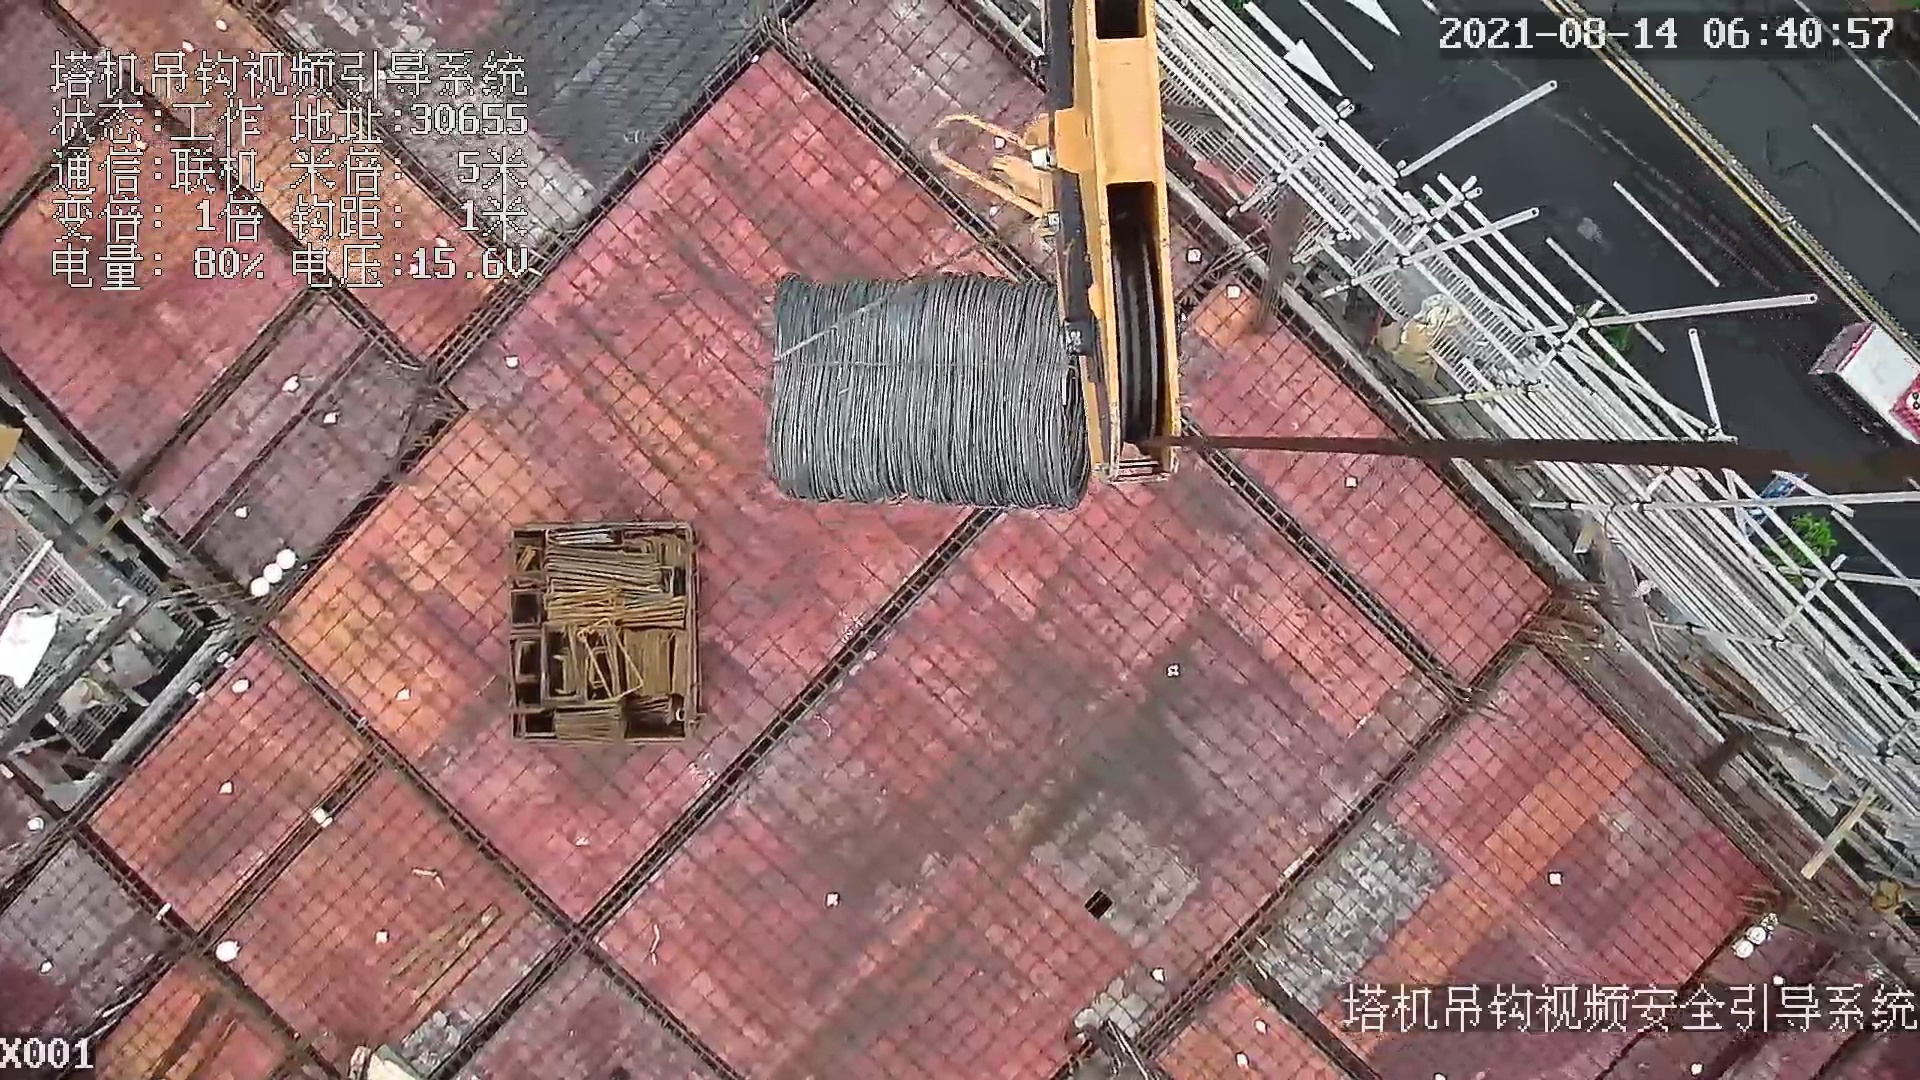hook: (928, 1, 1212, 491)
